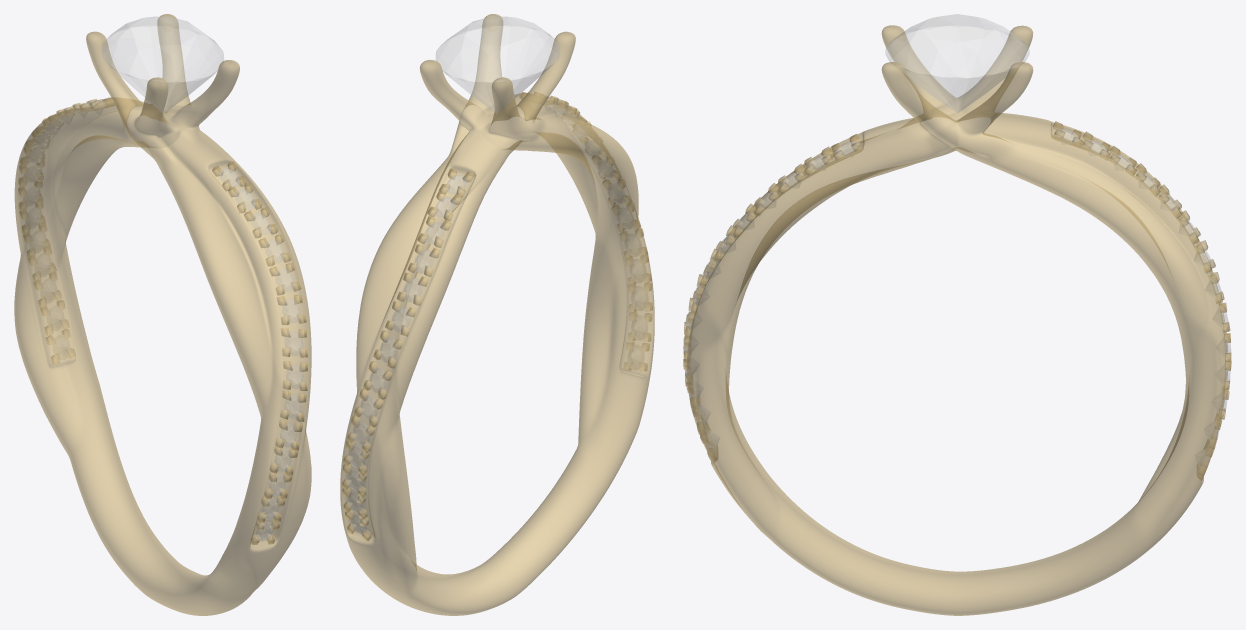
3 renders of one model, left to right at view 1: azimuth 30°, elevation 25°; view 2: azimuth 150°, elevation 25°; view 3: azimuth 270°, elevation 25°, orthographic. The views are drawn at different scales.
Visible parts, largest first — view 1: Ring, Diamond; view 2: Ring, Diamond; view 3: Ring, Diamond.
Part boxes in pixels (x1=…): Ring: x1=14, y1=14, x2=311, y2=615; Diamond: x1=23, y1=17, x2=303, y2=541; Ring: x1=340, y1=14, x2=654, y2=615; Diamond: x1=346, y1=17, x2=647, y2=534; Ring: x1=683, y1=25, x2=1231, y2=615; Diamond: x1=683, y1=14, x2=1230, y2=466.
Size of the model in its own units: 0.5235 by 2.73 by 2.32.
